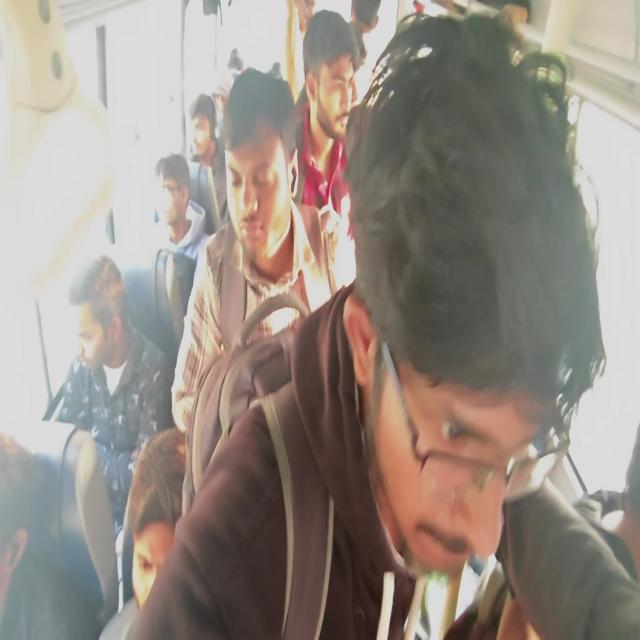person: (127, 11, 606, 638), (170, 66, 352, 436), (42, 253, 174, 608), (494, 422, 639, 638), (98, 427, 187, 638), (292, 9, 359, 213), (154, 152, 211, 264), (188, 92, 228, 224)
